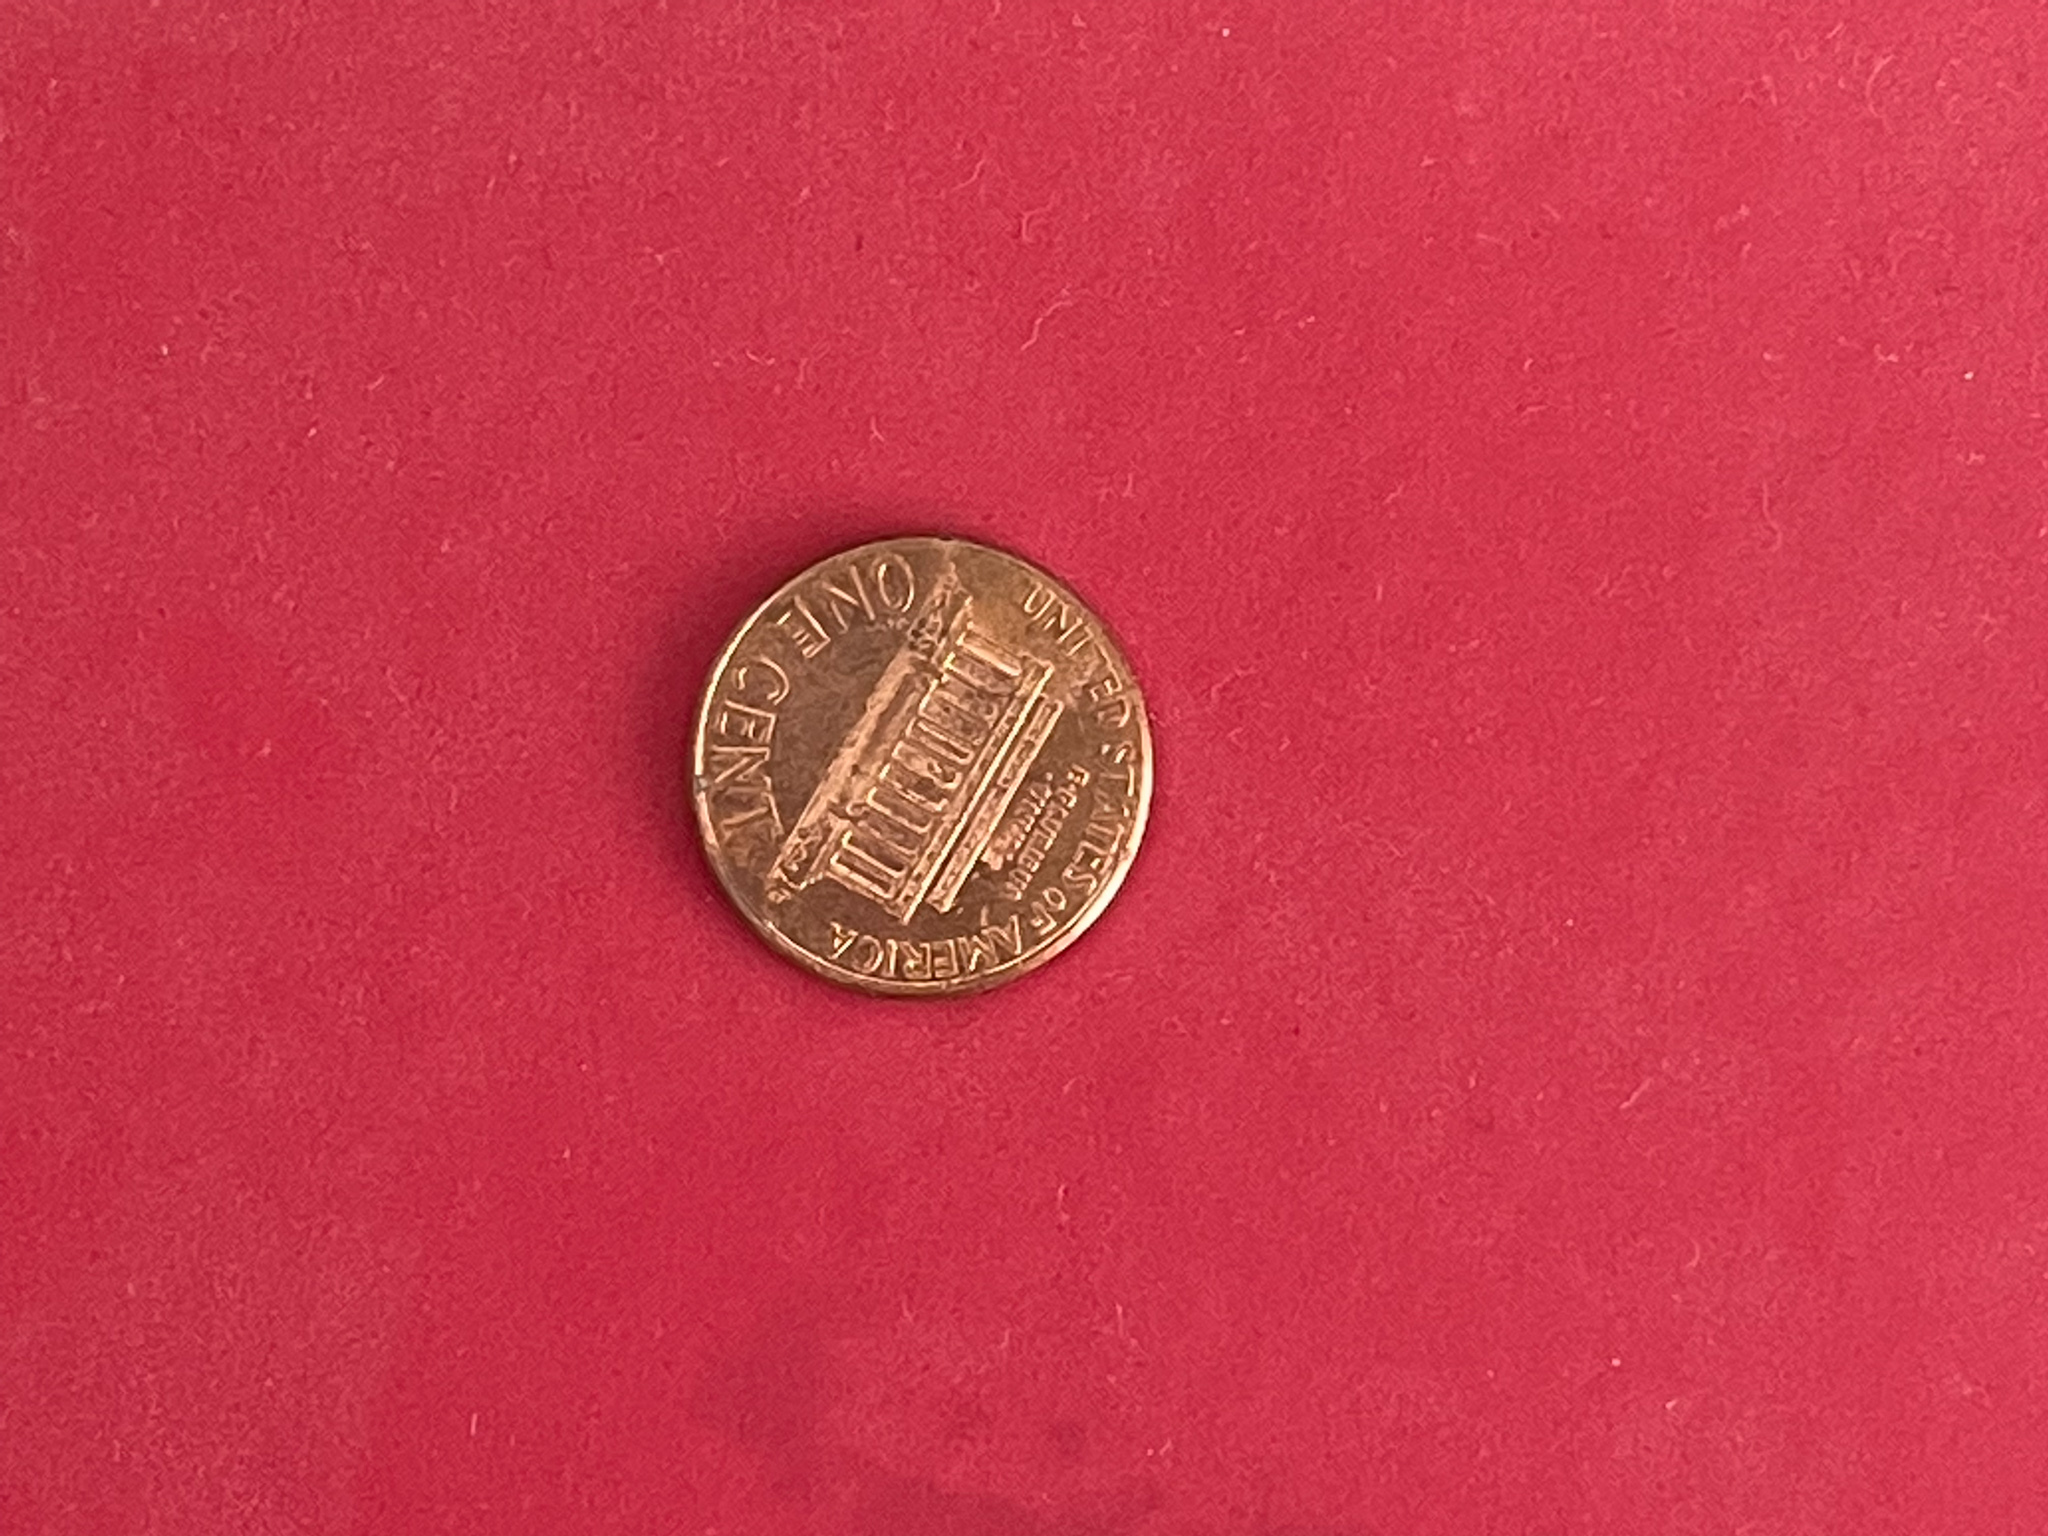penny: (684, 526, 1161, 1007)
